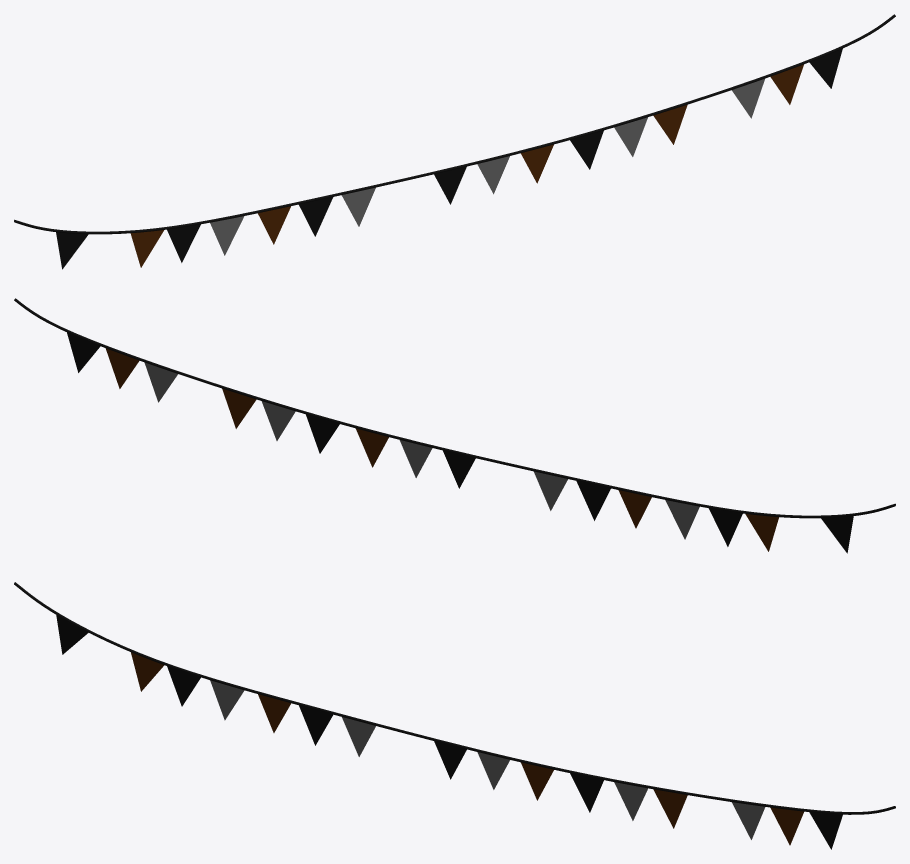
The model's file is banner2.fbx.
The picture shows the model from 3 angles, top to bottom: view 1: azimuth 30°, elevation 25°; view 2: azimuth 150°, elevation 25°; view 3: azimuth 330°, elevation 25°; orthographic projection.
Visible parts, largest first — view 1: banner; view 2: banner; view 3: banner.
Boxes of the visible parts, x1=… form: banner: x1=14, y1=14, x2=895, y2=269; banner: x1=14, y1=298, x2=895, y2=553; banner: x1=14, y1=582, x2=895, y2=849.
Size of the model in its own units: 736 by 72.97 by 2.07.
